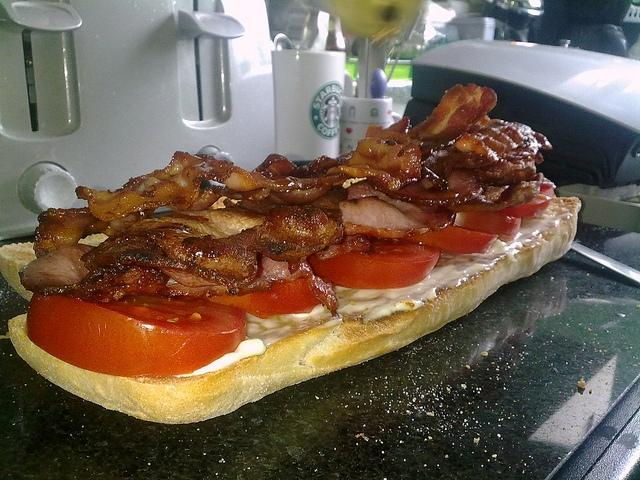tomato: (24, 292, 246, 376), (306, 235, 440, 290), (209, 278, 321, 319), (404, 226, 498, 254), (454, 211, 522, 237), (499, 202, 550, 218), (539, 185, 554, 196)
